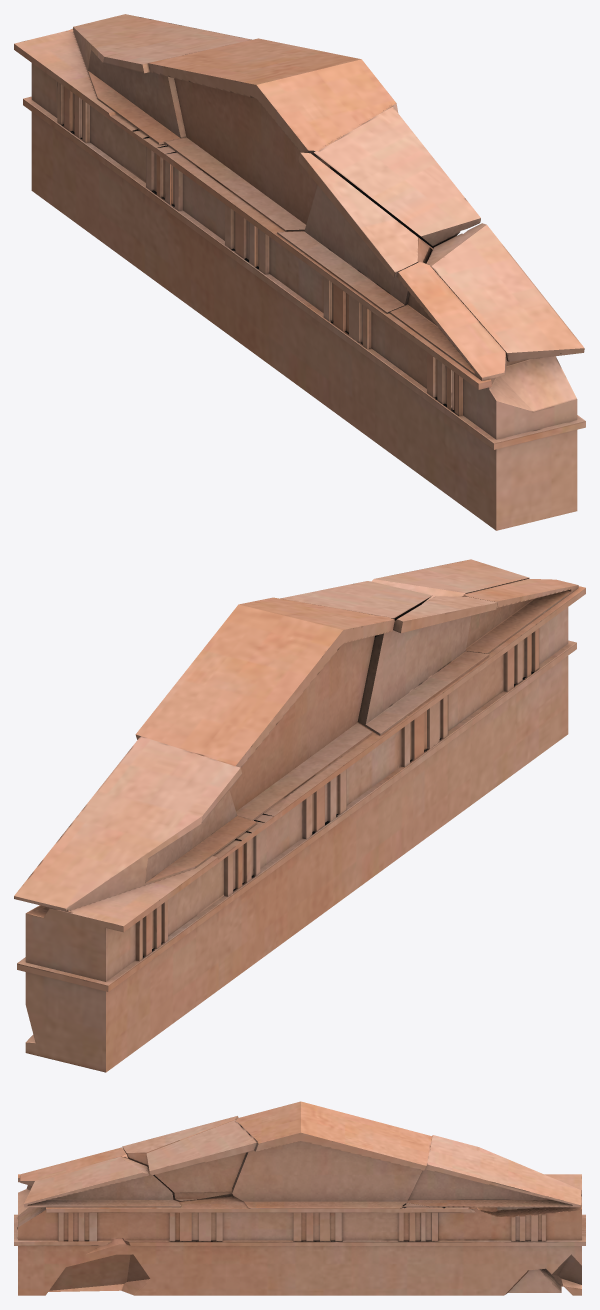
Rendered from templo_roto.fbx.
3 views of the same model, one above another, from view 1: azimuth 30°, elevation 25°; view 2: azimuth 150°, elevation 25°; view 3: azimuth 270°, elevation 25° (orthographic). The views are drawn at different scales.
Parts seen in each view (by area): view 1: Cube; view 2: Cube; view 3: Cube.
Boxes of the visible parts, <box> form: Cube: <box>14,14,585,530</box>; Cube: <box>14,559,585,1072</box>; Cube: <box>14,1101,585,1295</box>.
Size of the model in its own units: 158 by 359 by 1108.
